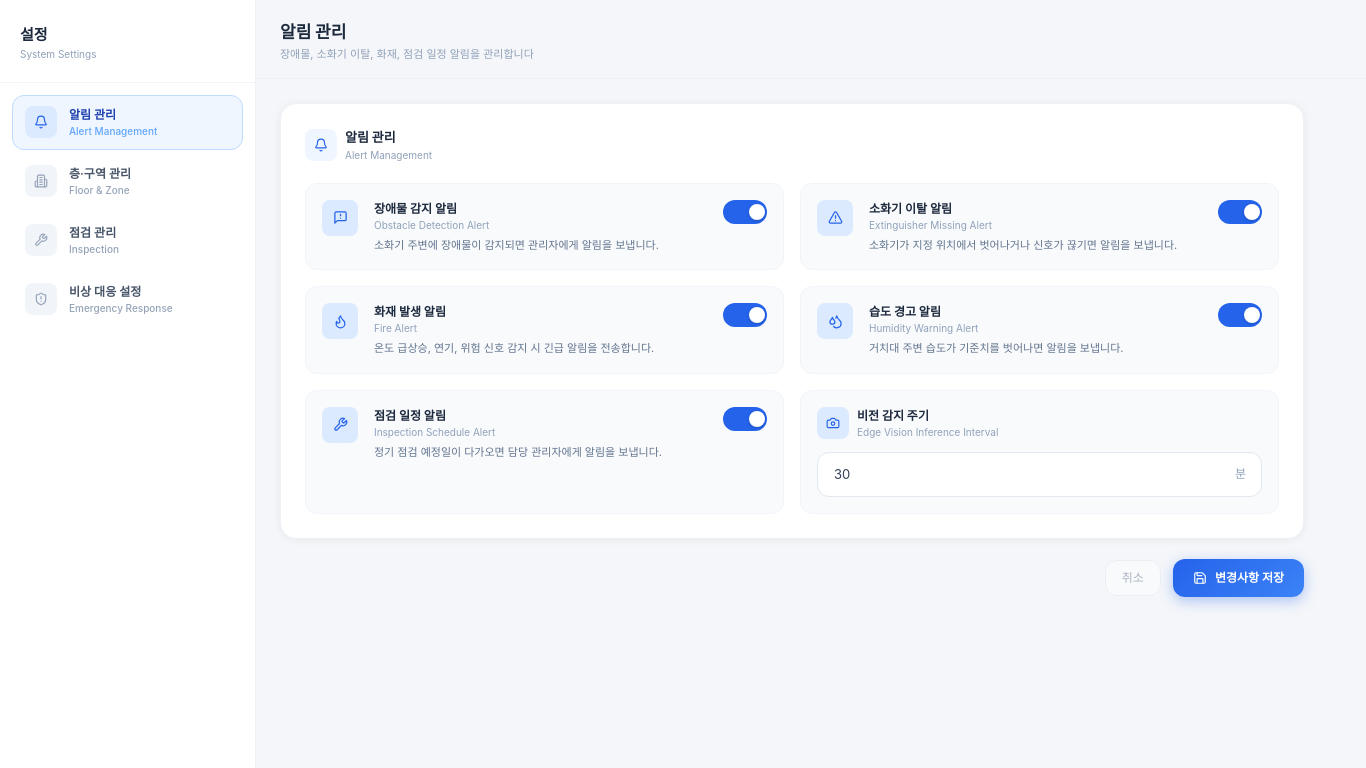
Test: Settings › shows an error message when saving fails
Expected: the text "장애물 감지 알림" is shown, [374,200,457,216]
Click the button without text in the row of "화재 발생 알림" at (745, 315), box [723,303,767,327]
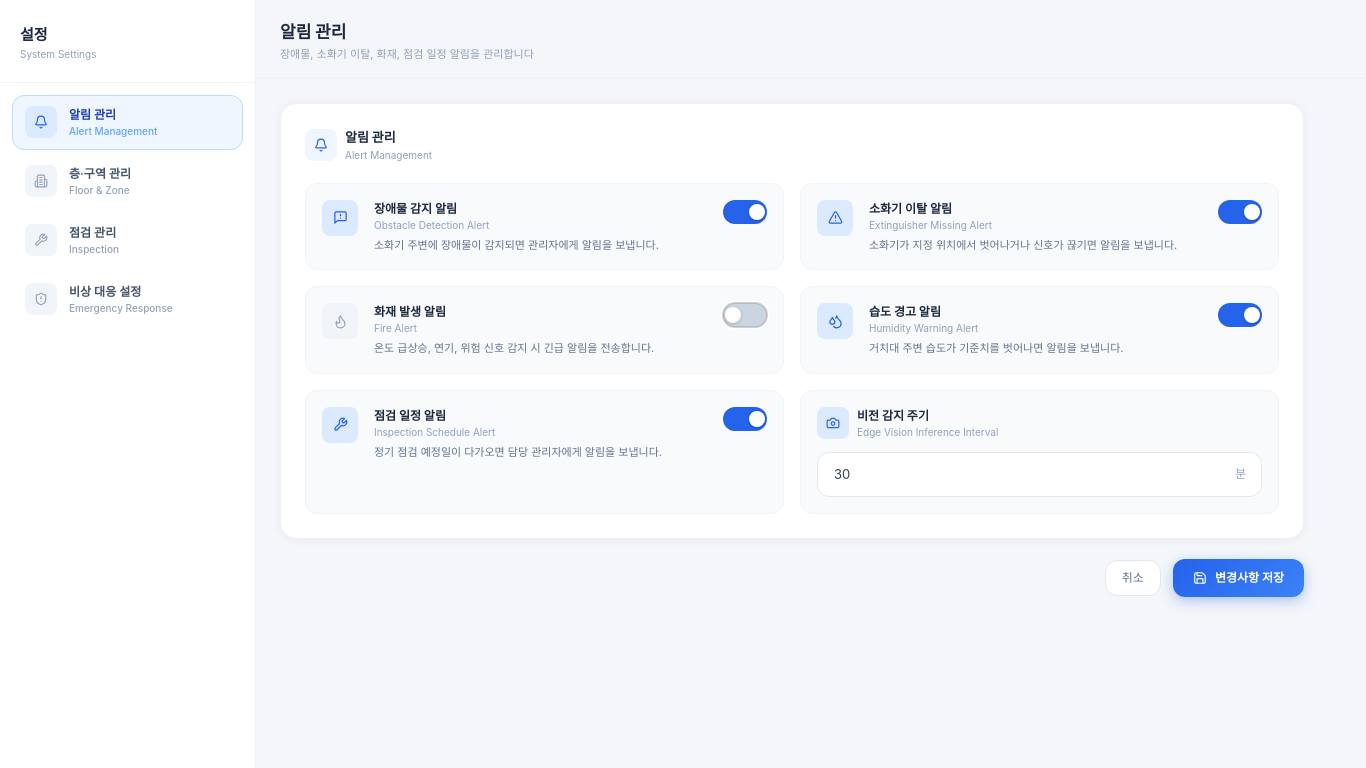
Click the button "변경사항 저장" at (1238, 578), box [1173,559,1304,597]
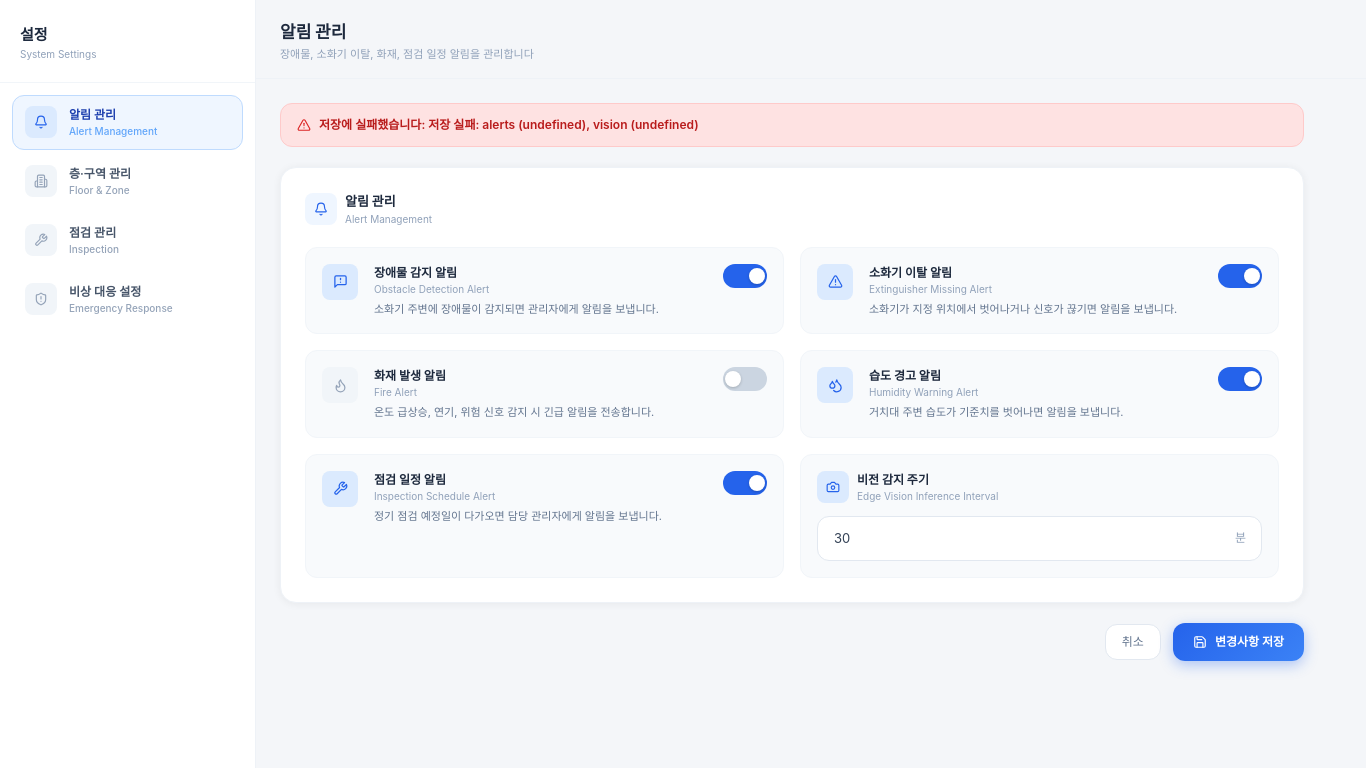
Result: the text "저장에 실패했습니다: 저장 실패: alerts (undefined), vision (undefined)" is shown at [319,116,699,134]
